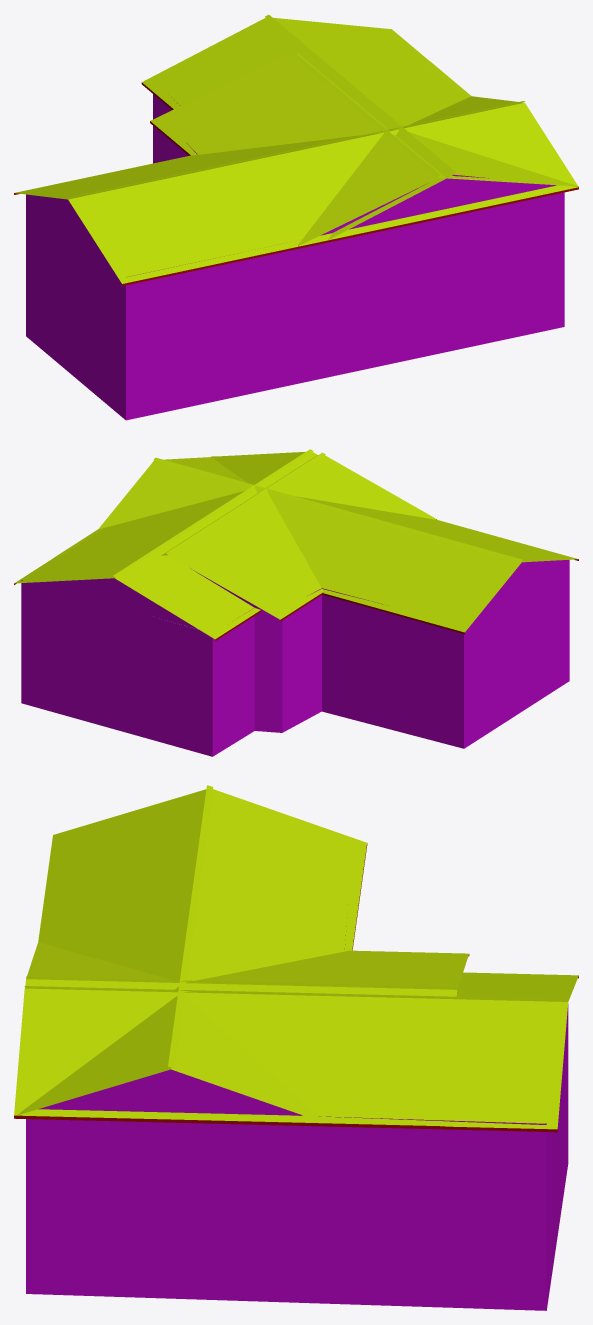
File: scl_109.glb
3 renders of one model, top to bottom at view 1: azimuth 30°, elevation 25°; view 2: azimuth 150°, elevation 25°; view 3: azimuth 270°, elevation 25°, orthographic. The views are drawn at different scales.
Parts seen in each view (by area): view 1: scl_109; view 2: scl_109; view 3: scl_109.
Boxes of the visible parts, x1,y1,x2,y2 form: scl_109: (14, 14, 578, 420); scl_109: (14, 449, 578, 756); scl_109: (14, 785, 578, 1310).
Size of the model in its own units: 26.64 by 10 by 21.57.
